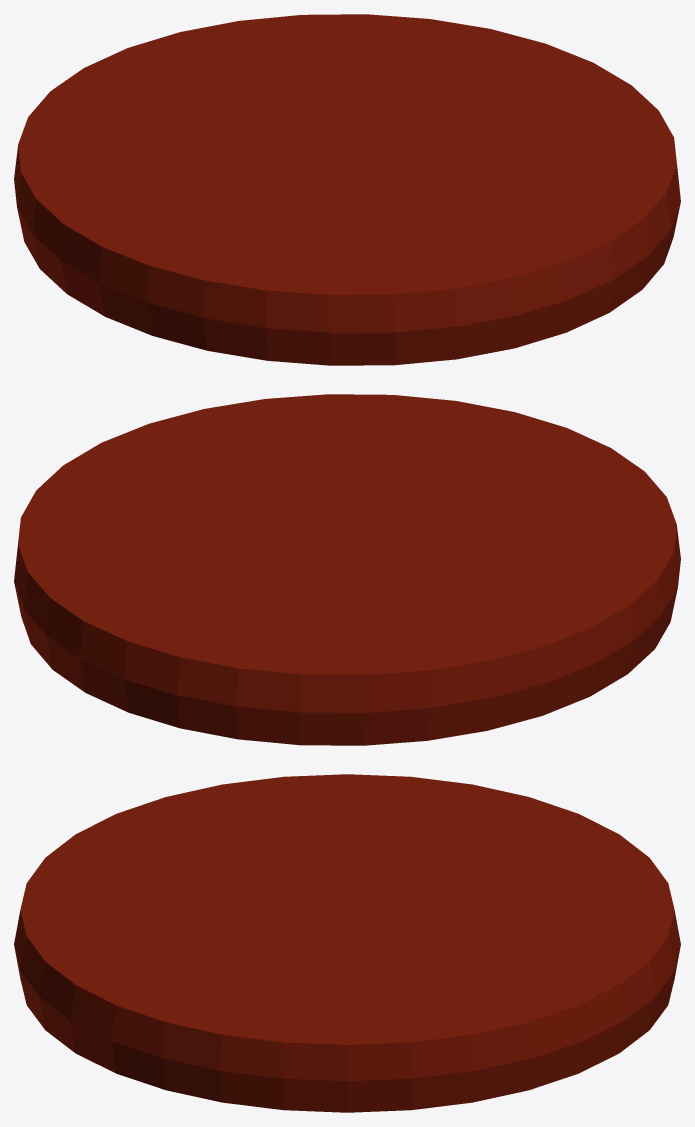
Rendered from meat.fbx.
3 views of the same model, one above another, from view 1: azimuth 30°, elevation 25°; view 2: azimuth 150°, elevation 25°; view 3: azimuth 270°, elevation 25° (orthographic). The views are drawn at different scales.
Visible parts, largest first — view 1: meso; view 2: meso; view 3: meso.
Boxes of the visible parts, x1,y1,x2,y2 form: meso: (14,14,680,365); meso: (14,394,680,745); meso: (14,774,680,1112).
Bounding box in the file's own units: 186 × 22.08 × 192.
Materials: 1 (1 with a texture image).
